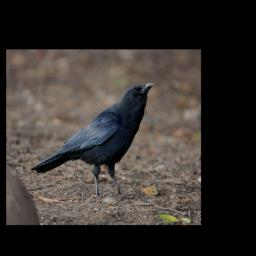Crow: (32, 82, 156, 201)
